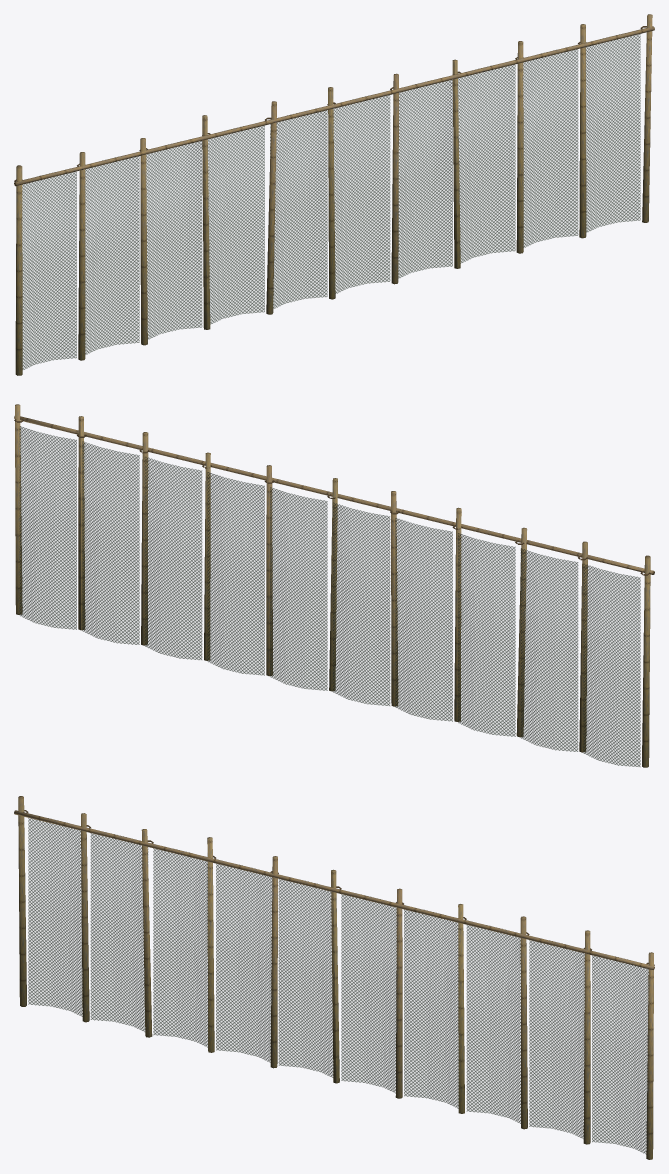
File: fish_stakes.glb
The picture shows the model from 3 angles, top to bottom: view 1: azimuth 30°, elevation 25°; view 2: azimuth 150°, elevation 25°; view 3: azimuth 330°, elevation 25°; orthographic projection.
Parts seen in each view (by area): view 1: fish_stakes_mesh; view 2: fish_stakes_mesh; view 3: fish_stakes_mesh.
Part boxes in pixels (x1=…): fish_stakes_mesh: x1=14, y1=14, x2=654, y2=375; fish_stakes_mesh: x1=14, y1=404, x2=654, y2=767; fish_stakes_mesh: x1=14, y1=796, x2=654, y2=1159.
Size of the model in its own units: 10.2 by 3.24 by 0.254.
3 materials, 2 textured.
